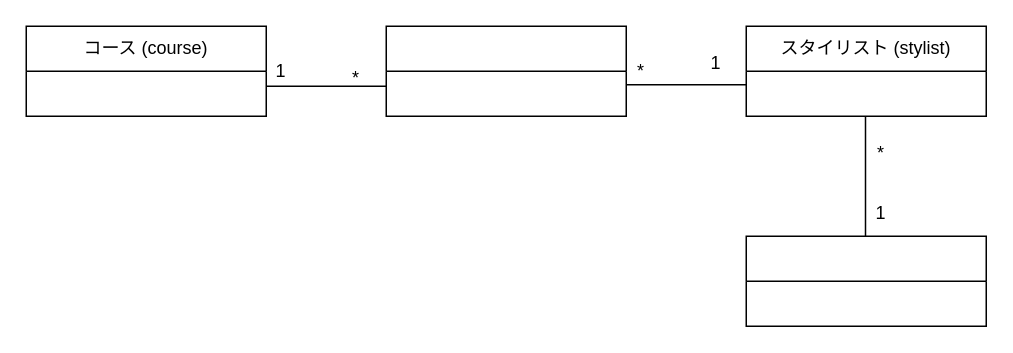
Some shapes in this 1013 by 353 pixel diagram are drawn without their labels. The centre of each missing label's shape, as x and y in pixels:
"スタイリスト勤務予定 (stylist_calendar)" goes at point 865,280.
"予約 (reservation)" goes at point 505,70.
